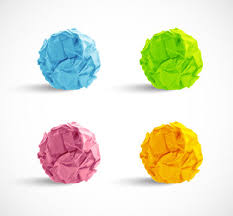crumpled paper: (35, 122, 101, 188), (138, 121, 205, 185), (36, 27, 103, 86), (141, 29, 205, 88)
